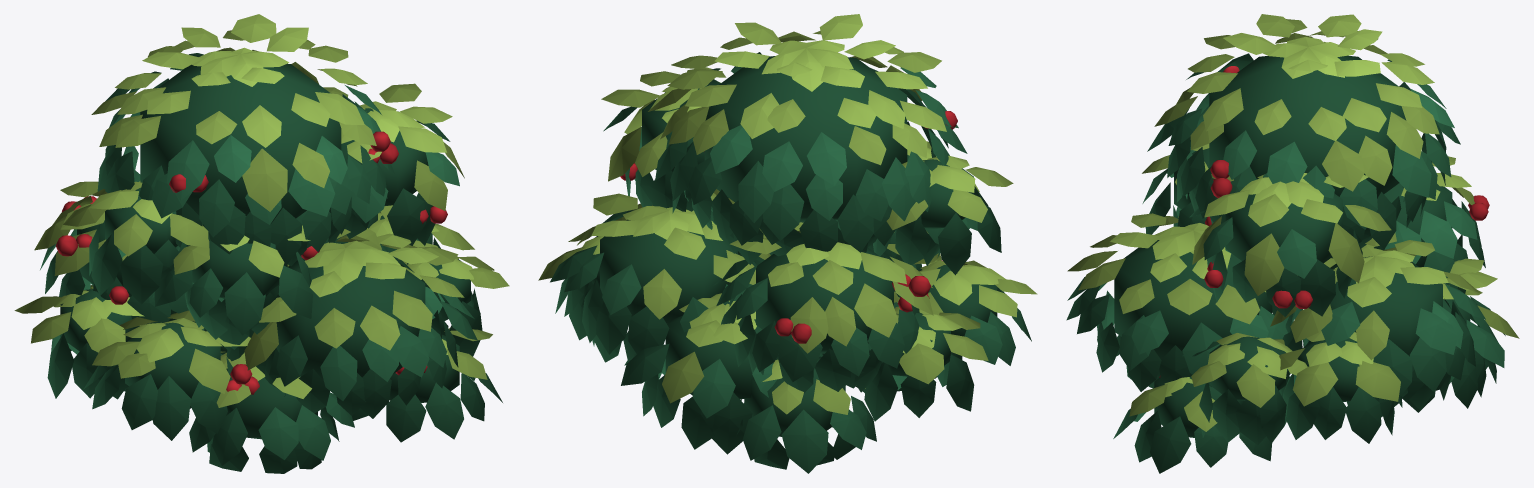
Rendered from bush_berries.glb.
3 renders of one model, left to right at view 1: azimuth 30°, elevation 25°; view 2: azimuth 150°, elevation 25°; view 3: azimuth 270°, elevation 25°, orthographic.
Parts seen in each view (by area): view 1: bush_berries, bush_berries_fruit; view 2: bush_berries, bush_berries_fruit; view 3: bush_berries, bush_berries_fruit.
Part boxes in pixels (box(x1,y1,x2,y2)): bush_berries: box(14, 14, 509, 473); bush_berries_fruit: box(55, 131, 447, 394); bush_berries: box(538, 14, 1037, 473); bush_berries_fruit: box(620, 111, 957, 343); bush_berries: box(1066, 14, 1519, 473); bush_berries_fruit: box(1159, 66, 1489, 377).
Bounding box in the file's own units: 1.4 × 1.1 × 1.3.
